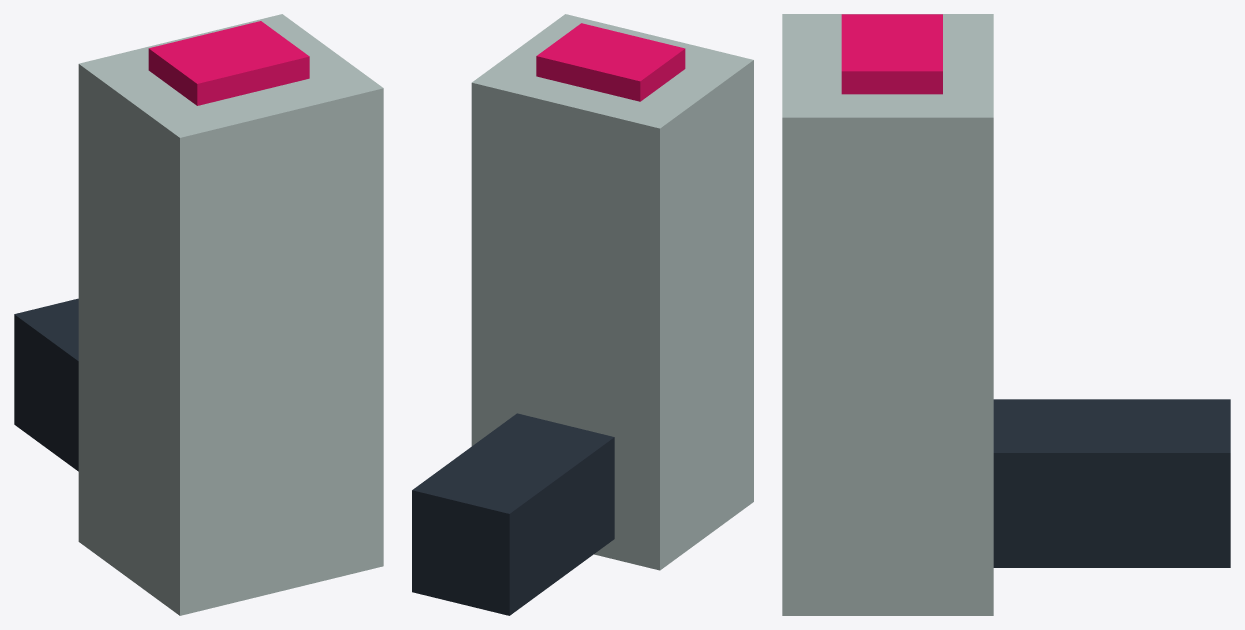
The model's file is ENV_prop_camera.obj.
3 views of the same model, side by side, from view 1: azimuth 30°, elevation 25°; view 2: azimuth 150°, elevation 25°; view 3: azimuth 270°, elevation 25° (orthographic). The views are drawn at different scales.
Parts seen in each view (by area): view 1: ENV_prop_camera; view 2: ENV_prop_camera; view 3: ENV_prop_camera.
Part boxes in pixels (x1,y1,x2,y2): ENV_prop_camera: [14, 14, 383, 615]; ENV_prop_camera: [412, 14, 753, 615]; ENV_prop_camera: [782, 14, 1230, 615].
Size of the model in its own units: 0.29 by 0.68 by 0.53.
